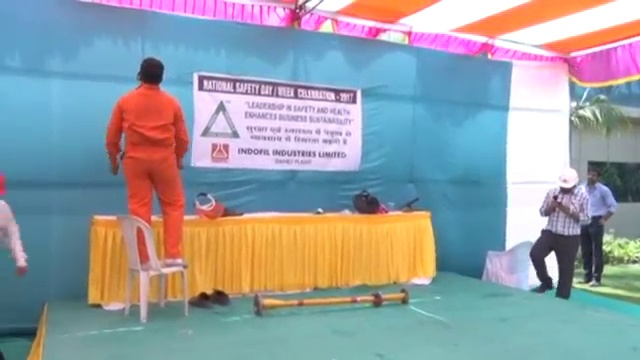helmet: (556, 166, 579, 189)
helmet_off: (134, 57, 166, 88), (586, 164, 601, 184)
helmet_on: (555, 165, 580, 198)
person: (102, 57, 193, 265), (537, 164, 588, 298), (582, 162, 617, 289)
